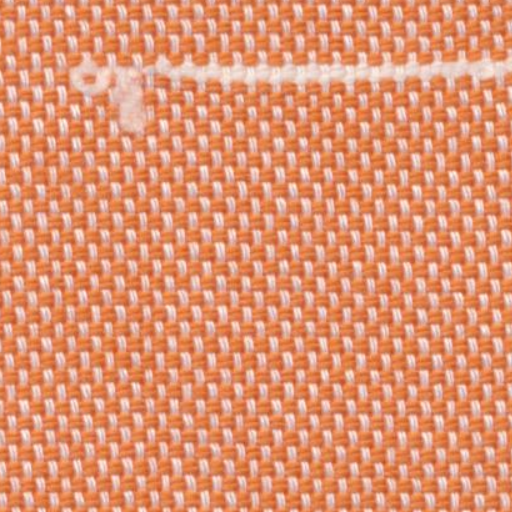DuanSha: (60, 42, 186, 146)
